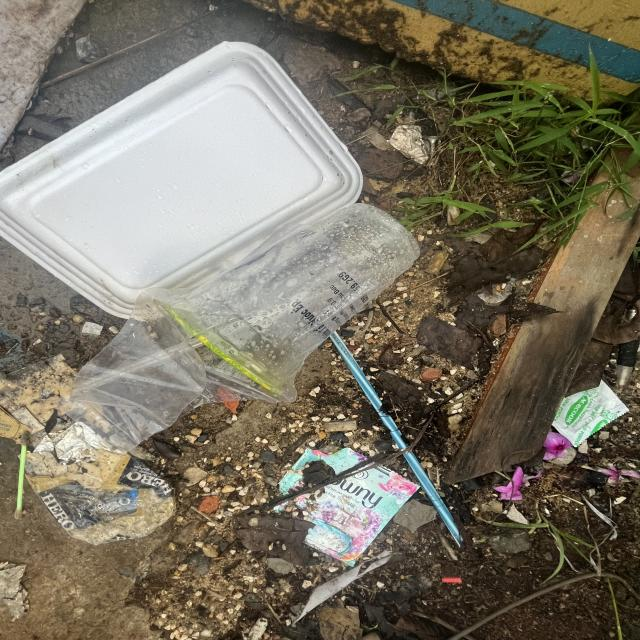drinking straw: (326, 329, 466, 550)
foam box: (0, 39, 365, 321)
packet: (272, 446, 424, 568), (550, 378, 630, 448)
plastic glass: (150, 202, 422, 397)
